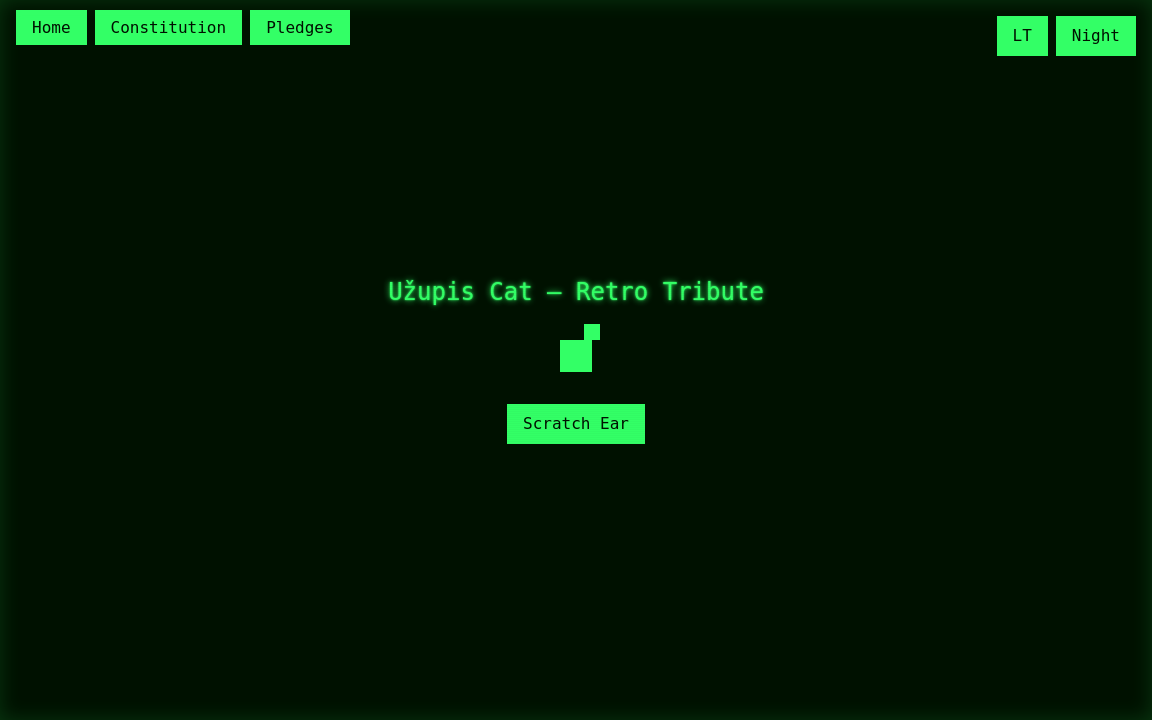
Scenario: Home page › shows toast when scratching
The width and height of the screenshot is (1152, 720).
Click the button "Scratch Ear" at (576, 424), box [507, 404, 645, 444]
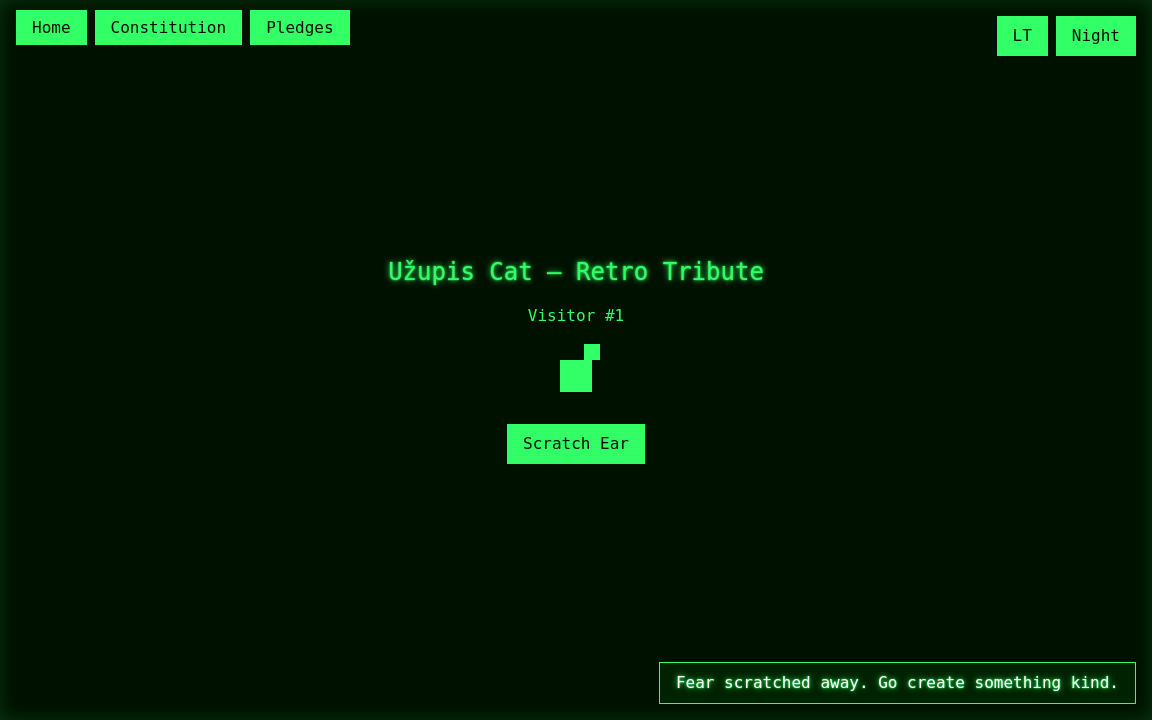
Now the message reads "Fear scratched away. Go create something kind.", box [676, 673, 1119, 692]
